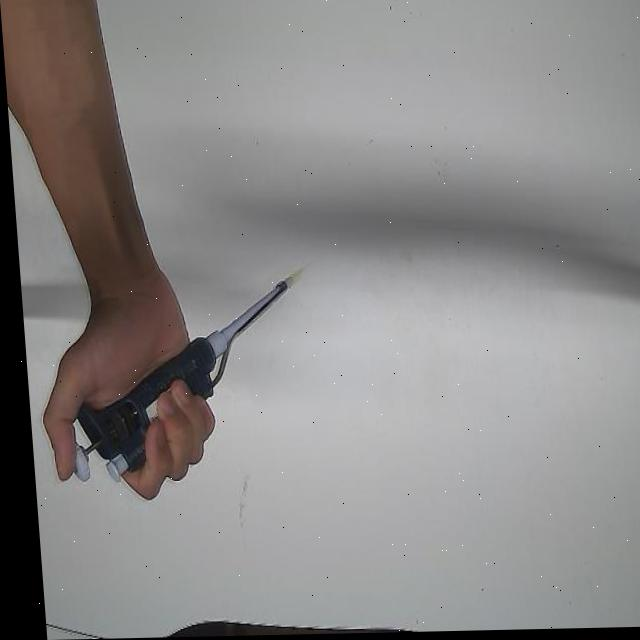Single Channel Pipettor: (50, 275, 302, 485)
